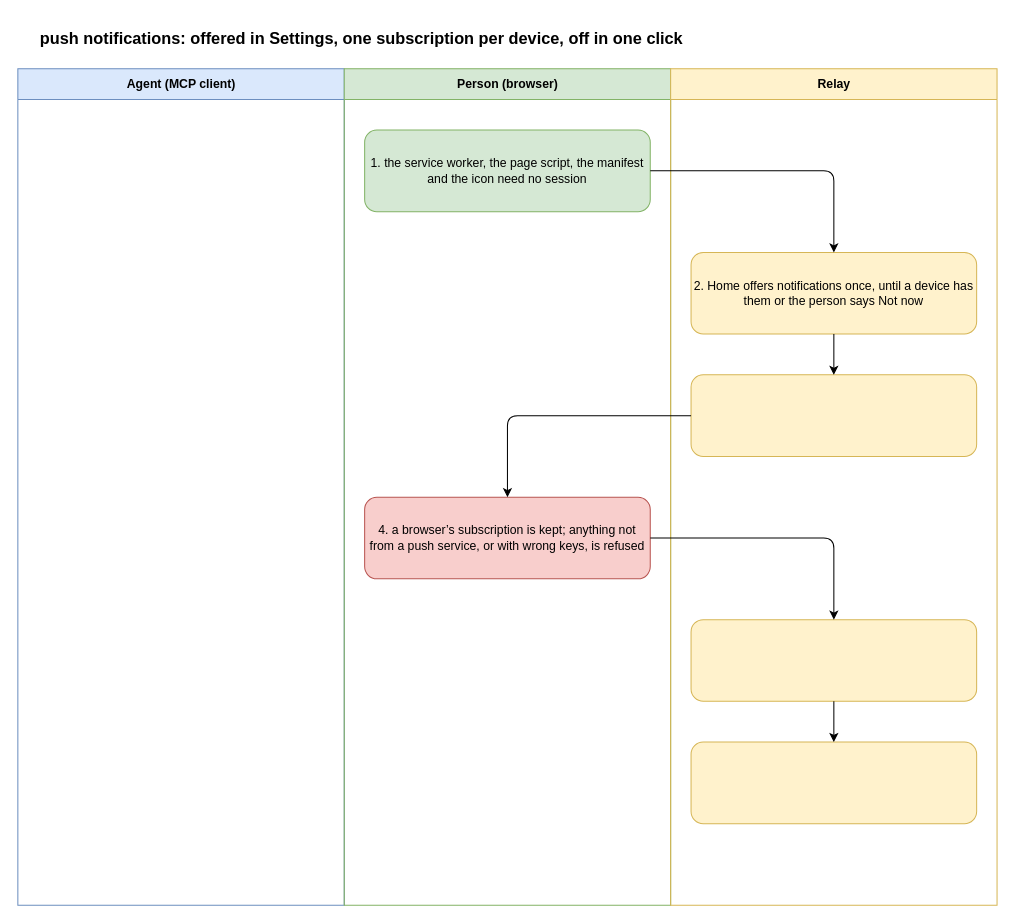
Image size: 1015x923. Some labels were removed from this diagram. Each missing label, with the centre of its shape:
3. Settings offers it with the relay’s public key and its same-origin script: point 833,415
5. "Turn off here" forgets this device only, and only for its own person: point 833,660
6. at most ten devices; "Turn off everywhere" forgets them all: point 833,782
